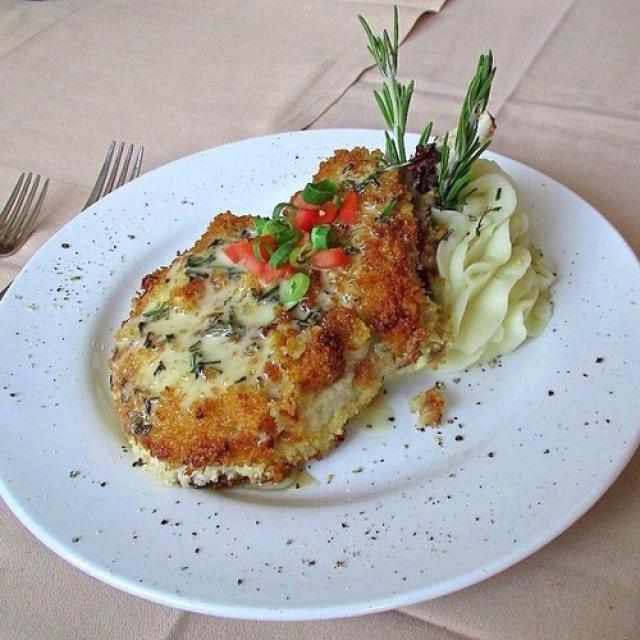猪肉菜式: (23, 8, 634, 591)
